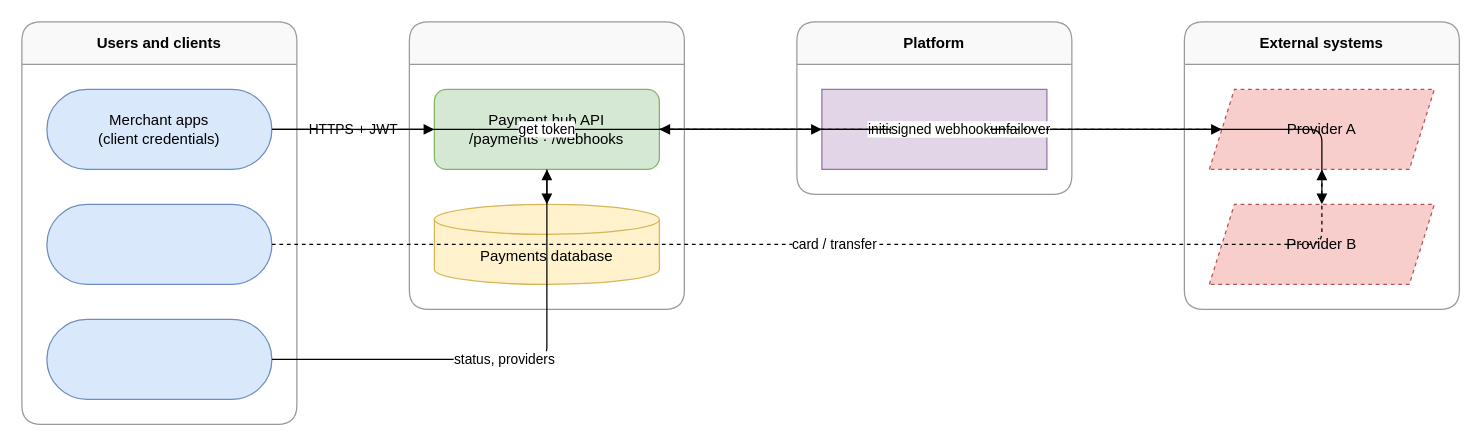
Image size: 1481x446. Some labels were removed from this diagram. Each missing label, with the box of its shape:
Customers (pay on provider page): (46, 203, 272, 284)
Keycloak (identity provider): (821, 88, 1047, 169)
Operations: (46, 318, 272, 399)
Payment gateway integration hub (system boundary): (408, 21, 684, 309)
